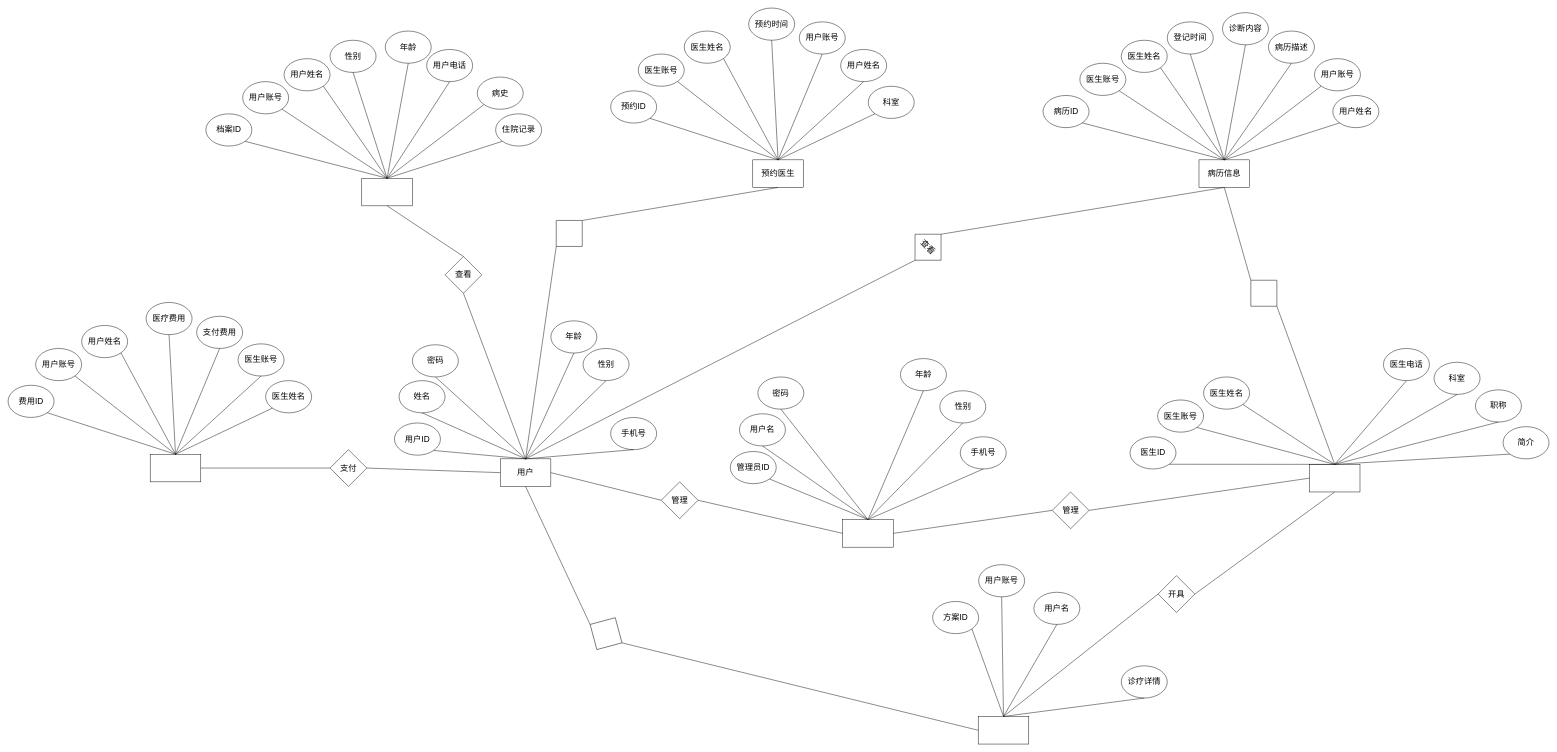
The diagram is 1557 pixels wide and 752 high, and some of its shapes have lost their labels. Each missing label, with the centre of its shape:
"健康档案" goes at pixel 386 192.
"医生" goes at pixel 1334 478.
"查阅" goes at pixel 605 633.
"管理员" goes at pixel 867 533.
"记录" goes at pixel 1263 293.
"诊疗方案" goes at pixel 1003 730.
"费用信息" goes at pixel 175 468.
"预约" goes at pixel 569 233.
